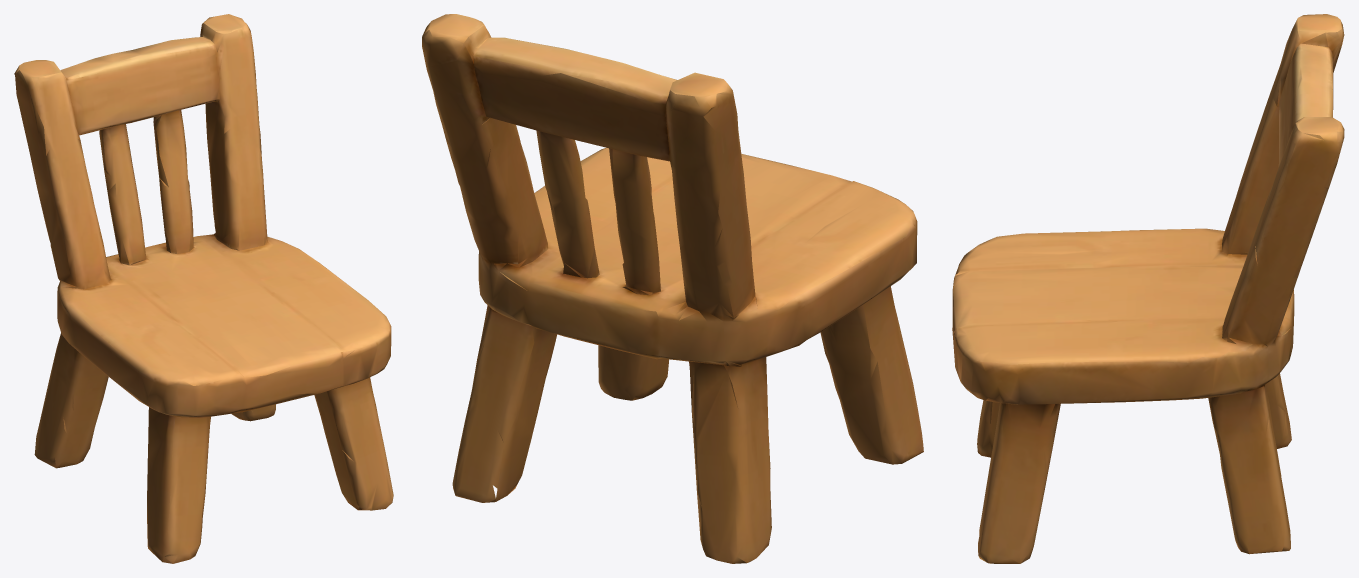
The model's file is chair17.glb.
3 renders of one model, left to right at view 1: azimuth 30°, elevation 25°; view 2: azimuth 150°, elevation 25°; view 3: azimuth 270°, elevation 25°, orthographic. The views are drawn at different scales.
Size of the model in its own units: 0.1555 by 0.2342 by 0.1931.
Materials: 1 (1 with a texture image).
